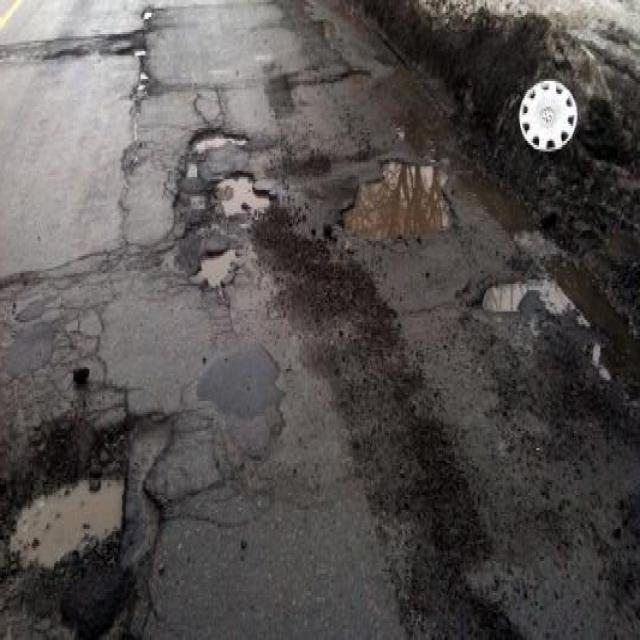pothole: (4, 408, 134, 580), (338, 156, 456, 244), (217, 164, 274, 218), (479, 271, 531, 316), (191, 241, 239, 288), (191, 124, 251, 156)
